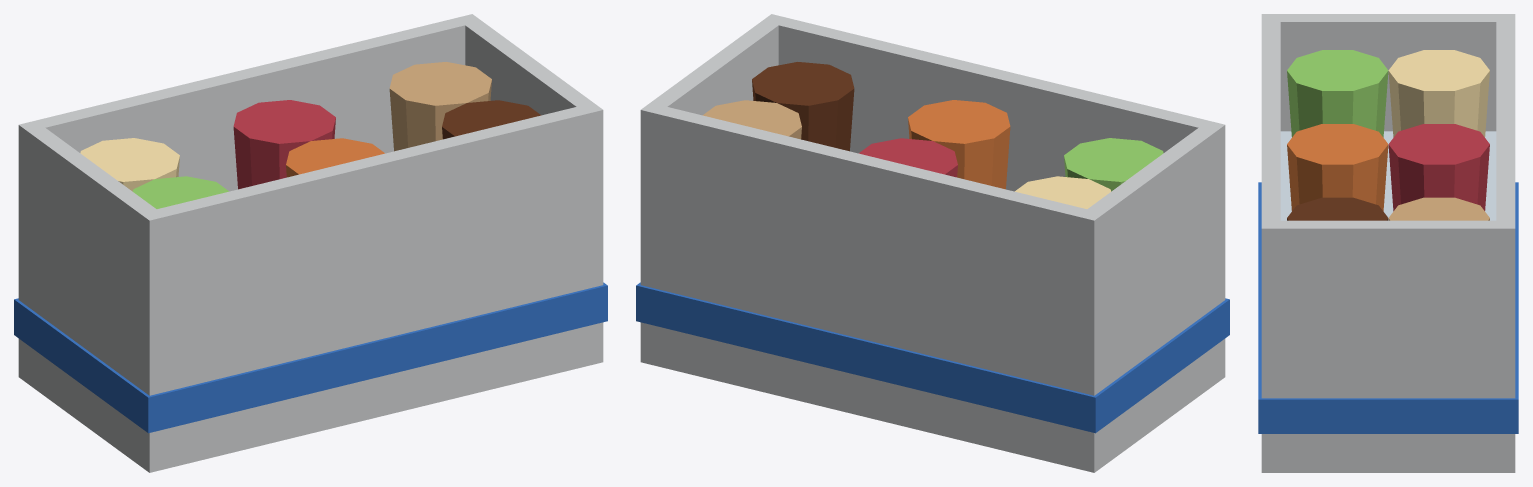
Rendered from ice_freezer.glb.
The picture shows the model from 3 angles, left to right: view 1: azimuth 30°, elevation 25°; view 2: azimuth 150°, elevation 25°; view 3: azimuth 270°, elevation 25°; orthographic projection. The views are drawn at different scales.
Parts seen in each view (by area): view 1: body_freezer_white, band_freezer_blue, tubs_1, tubs_2, tubs_0, tubs_5, tubs_4, tubs_3; view 2: body_freezer_white, band_freezer_blue, tubs_4, tubs_5, tubs_3, tubs_2, tubs_1, tubs_0; view 3: body_freezer_white, band_freezer_blue, tubs_0, tubs_3, tubs_1, tubs_4, inside_freezer_inside, tubs_2, tubs_5.
Boxes of the visible parts, left/top/right/bottom form: body_freezer_white: left=18, top=14, right=603, bottom=472; band_freezer_blue: left=14, top=282, right=607, bottom=433; tubs_1: left=233, top=100, right=335, bottom=189; tubs_2: left=389, top=62, right=491, bottom=151; tubs_0: left=80, top=138, right=179, bottom=191; tubs_5: left=442, top=100, right=541, bottom=139; tubs_4: left=286, top=138, right=384, bottom=177; tubs_3: left=133, top=176, right=228, bottom=208; body_freezer_white: left=640, top=14, right=1225, bottom=472; band_freezer_blue: left=636, top=282, right=1229, bottom=433; tubs_4: left=908, top=100, right=1010, bottom=189; tubs_5: left=752, top=62, right=854, bottom=151; tubs_3: left=1064, top=138, right=1163, bottom=191; tubs_2: left=702, top=100, right=801, bottom=139; tubs_1: left=859, top=138, right=957, bottom=177; tubs_0: left=1015, top=176, right=1110, bottom=208; body_freezer_white: left=1261, top=14, right=1515, bottom=472; band_freezer_blue: left=1258, top=182, right=1518, bottom=433; tubs_0: left=1388, top=50, right=1489, bottom=137; tubs_3: left=1287, top=50, right=1388, bottom=137; tubs_1: left=1388, top=124, right=1489, bottom=211; tubs_4: left=1287, top=124, right=1388, bottom=211; inside_freezer_inside: left=1280, top=131, right=1496, bottom=220; tubs_2: left=1388, top=197, right=1489, bottom=220; tubs_5: left=1287, top=197, right=1388, bottom=220.
Bounding box in the file's own units: 1.62 × 0.85 × 0.82.
